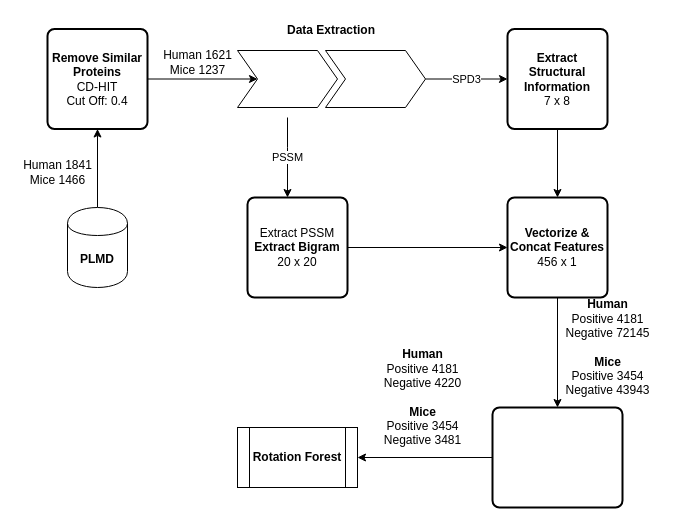
Image size: 674x525. Some labels were removed from this diagram. The centre of each missing label's shape, as x and y in pixels:
"Imbalance Treatment K-Nearest Neighbor Human, K = 100 Mice, K = 60" goes at point 557,457.
"PSI-Blast" goes at point 287,79.
"SPIDER3" goes at point 375,79.
